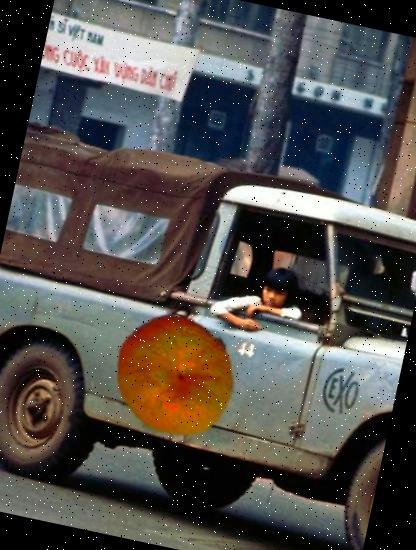Mandarine: (102, 300, 254, 452)
